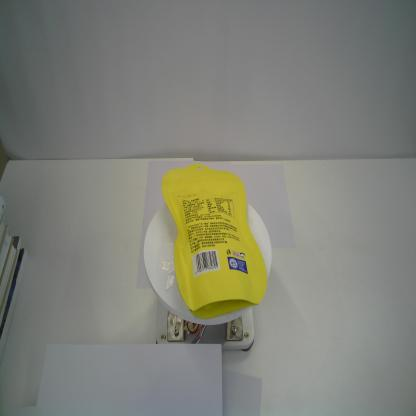Dried Fruit: (160, 162, 270, 323)
